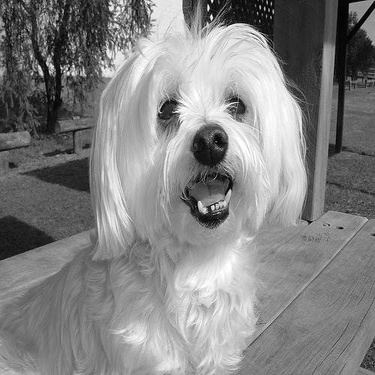dog: (2, 18, 310, 371)
